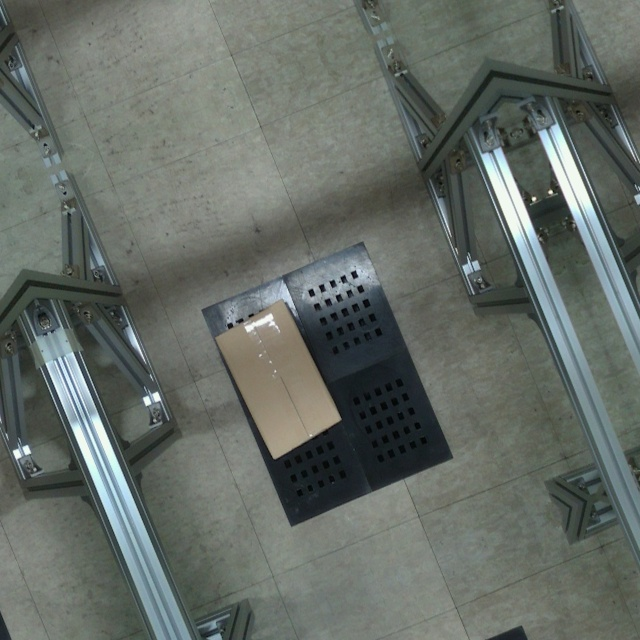box: (211, 297, 347, 464)
pallet: (197, 238, 458, 532)
